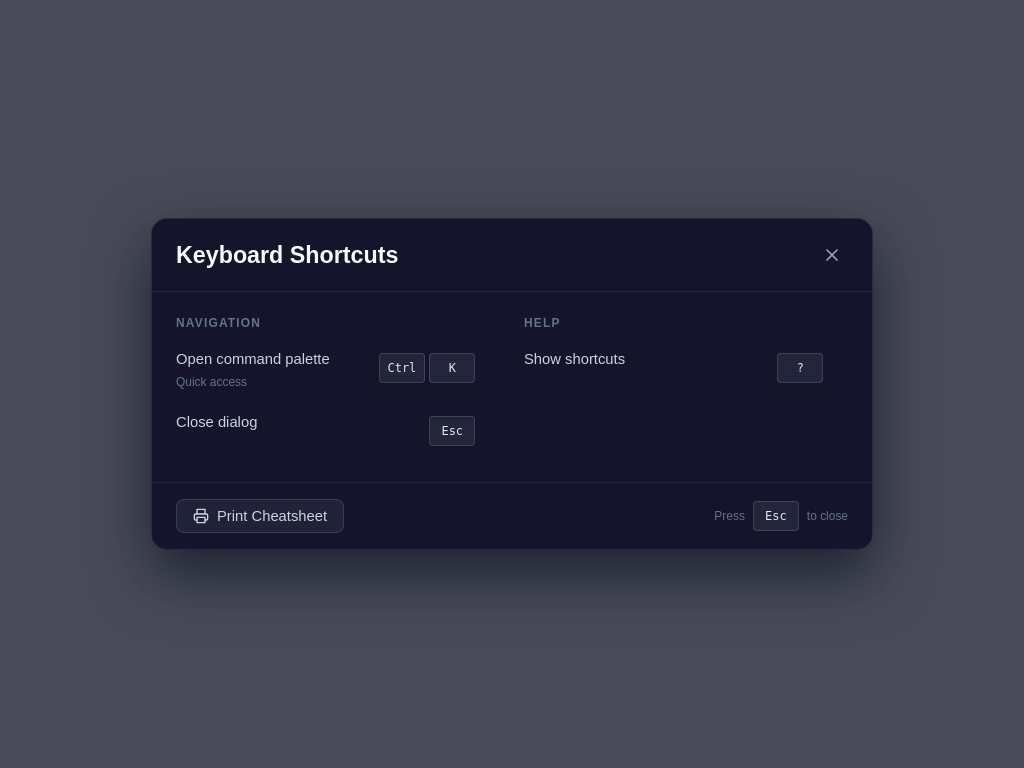
KeyboardShortcutsOverlay › displays modifiers properly while recording
Click the button with aria-label "Edit shortcut for Close dialog": (462,431) [424, 413, 500, 449]
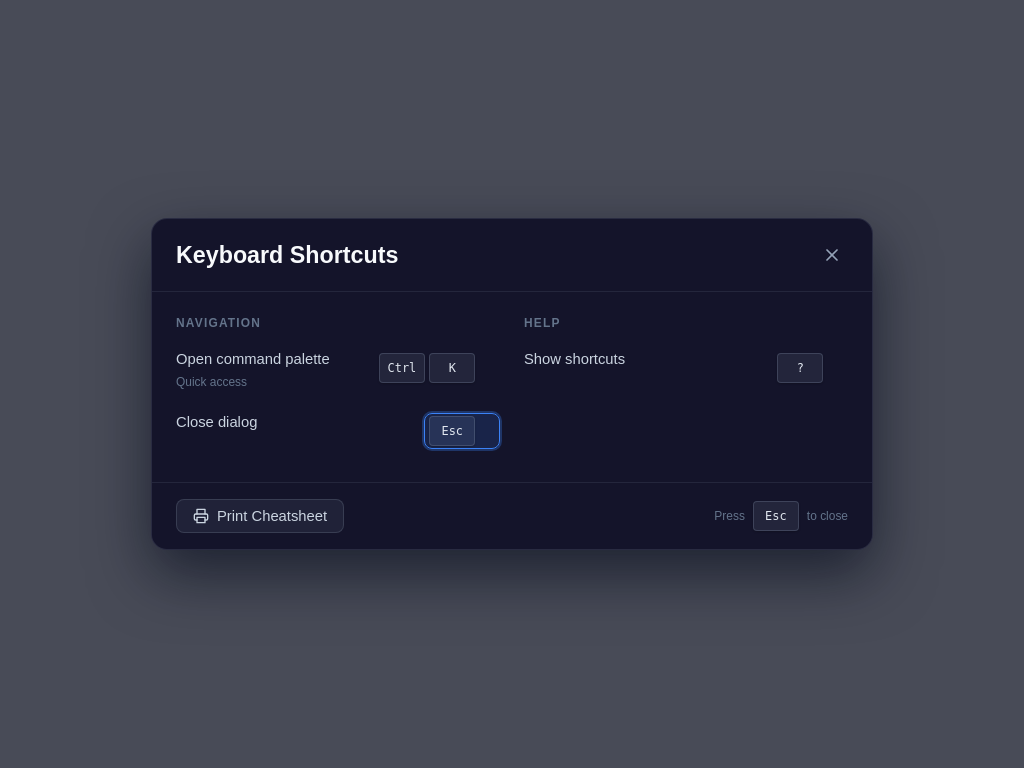
Press Shift
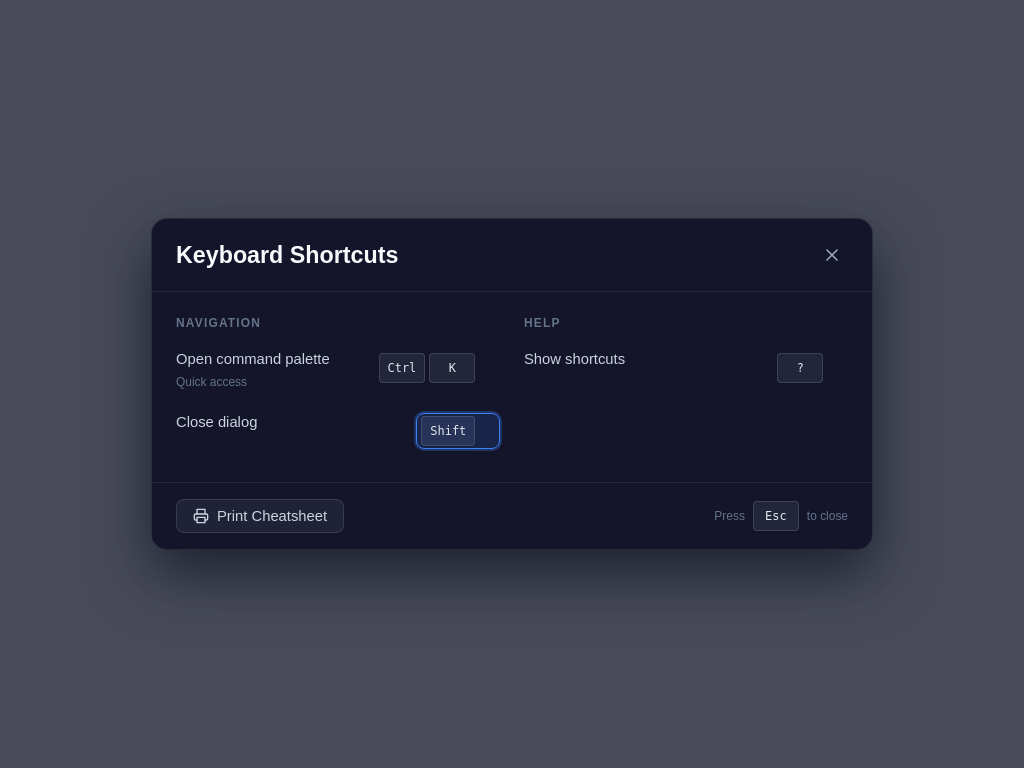
Now the button with aria-label "Stop recording for Close dialog" is shown, box [416, 413, 500, 449]
Now the text "Shift" is shown, box [421, 416, 475, 446]
